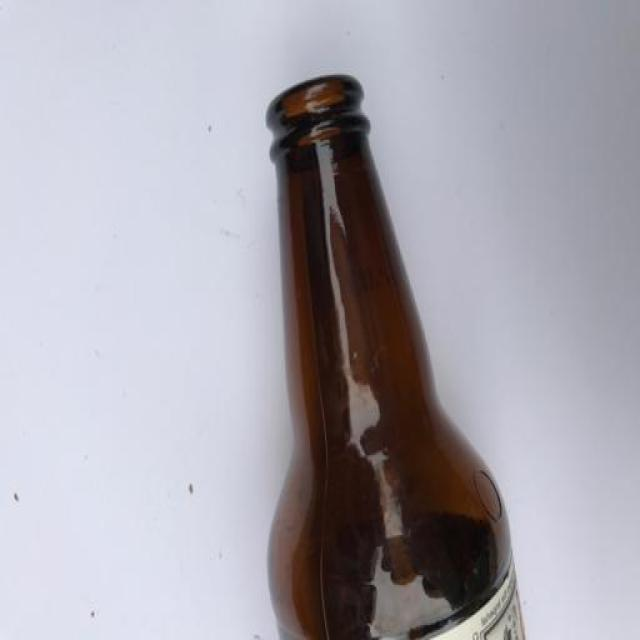glass: (220, 54, 554, 638)
